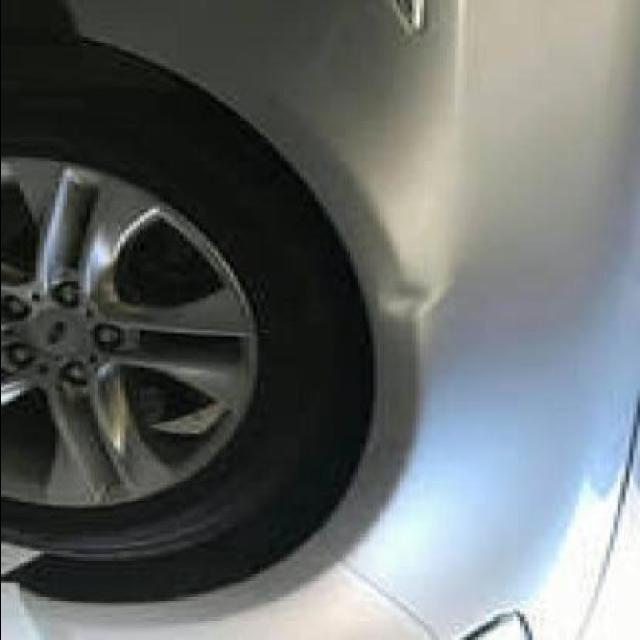fender-dent: (159, 9, 640, 540)
